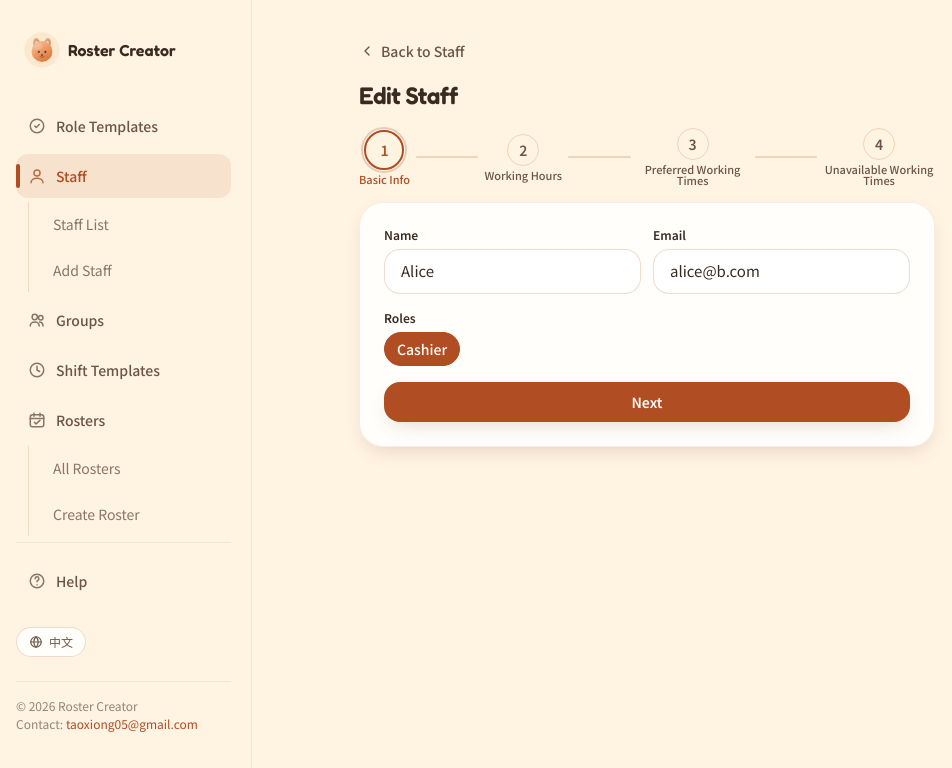
Scenario: StaffEditPage › blocks jumping away from Basic Info when no responsibility is selected
The image size is (952, 768).
Check: the field showing "Alice" is shown, box x1=384 y1=249 x2=641 y2=294
Click the button "Cashier" at (422,348), box x1=384 y1=332 x2=460 y2=366
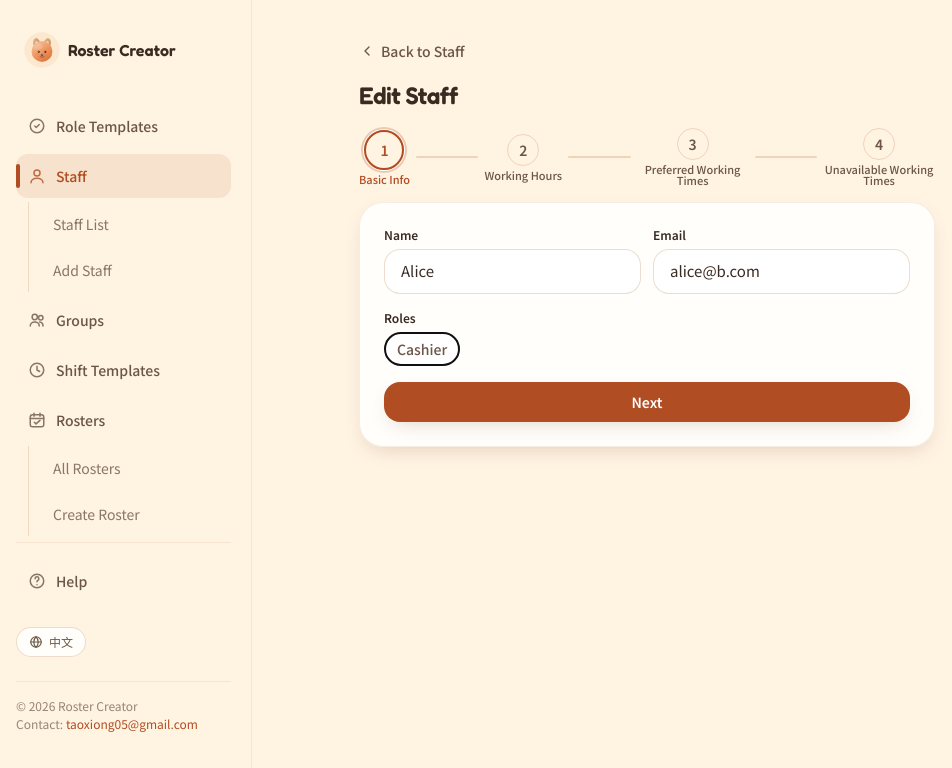
Click the button named "Working Hours" at (523,150), box x1=507 y1=134 x2=539 y2=166
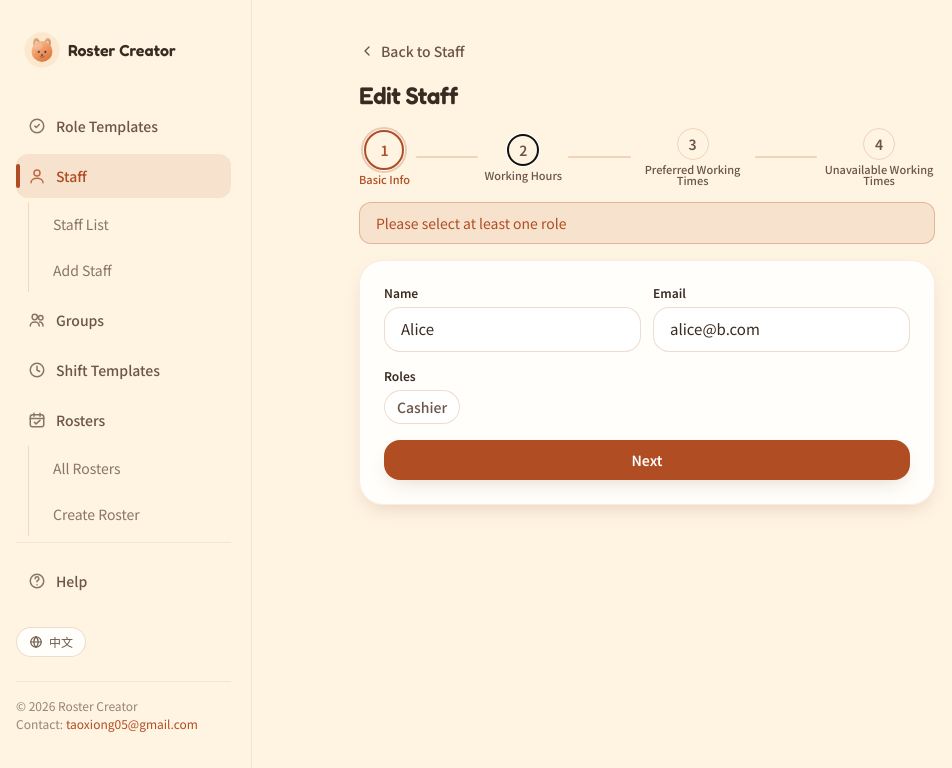
Check: the field labelled "Name" is shown, box x1=384 y1=307 x2=641 y2=352
Check: the message reads "Please select at least one role", box x1=376 y1=213 x2=566 y2=233
